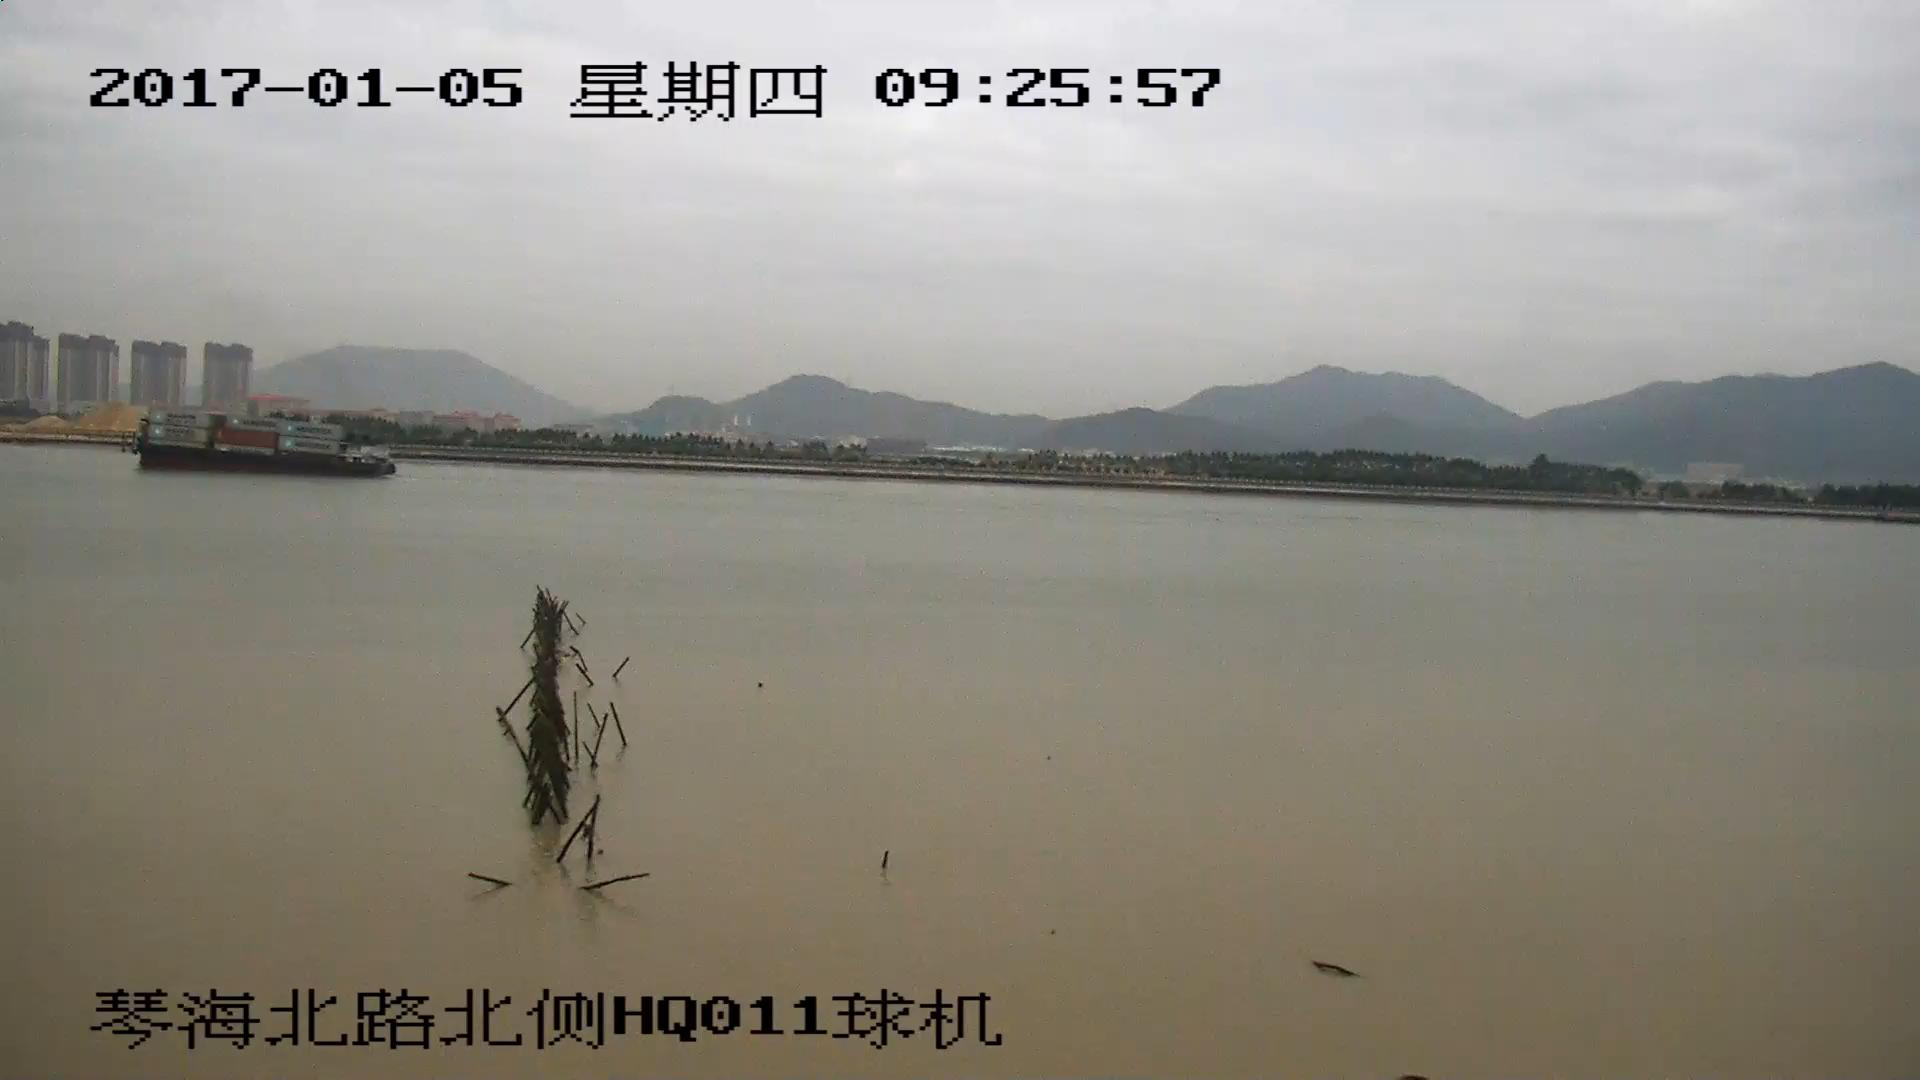container ship: (132, 413, 398, 477)
